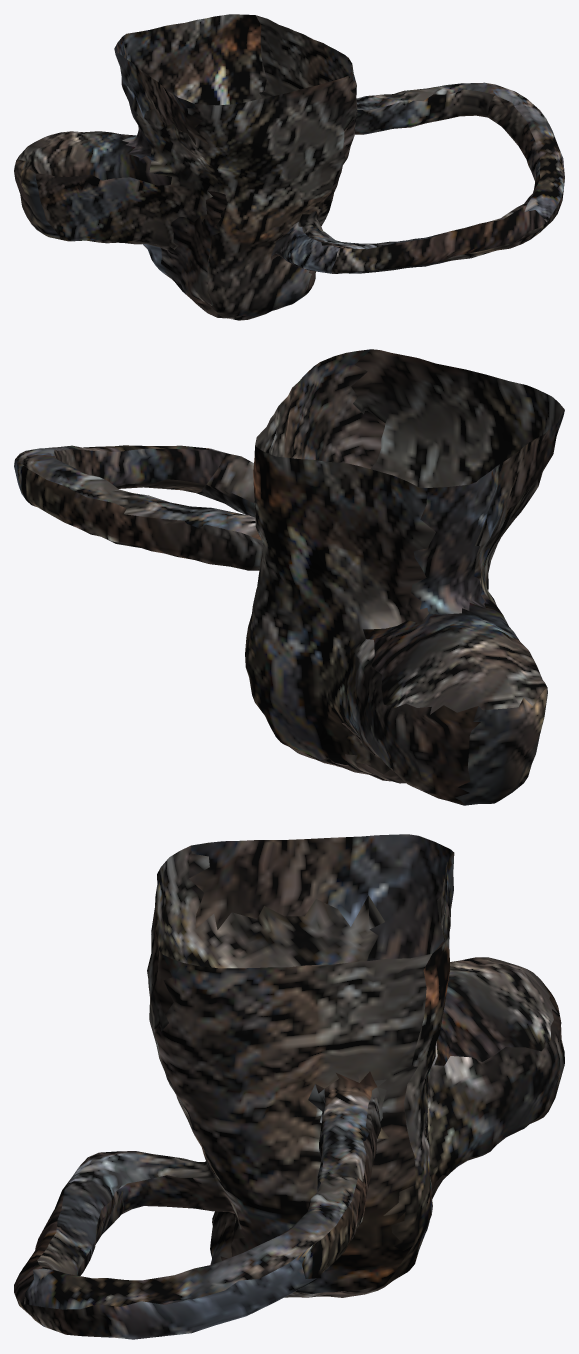
The model's file is CaveTest.fbx.
3 views of the same model, one above another, from view 1: azimuth 30°, elevation 25°; view 2: azimuth 150°, elevation 25°; view 3: azimuth 270°, elevation 25° (orthographic). The views are drawn at different scales.
Visible parts, largest first — view 1: Cube; view 2: Cube; view 3: Cube.
Boxes of the visible parts, left/top/right/bottom form: Cube: left=14, top=14, right=564, bottom=320; Cube: left=14, top=349, right=564, bottom=805; Cube: left=14, top=834, right=564, bottom=1339.
Bounding box in the file's own units: 17155 × 9387 × 12022.
Materials: 1 (1 with a texture image).
